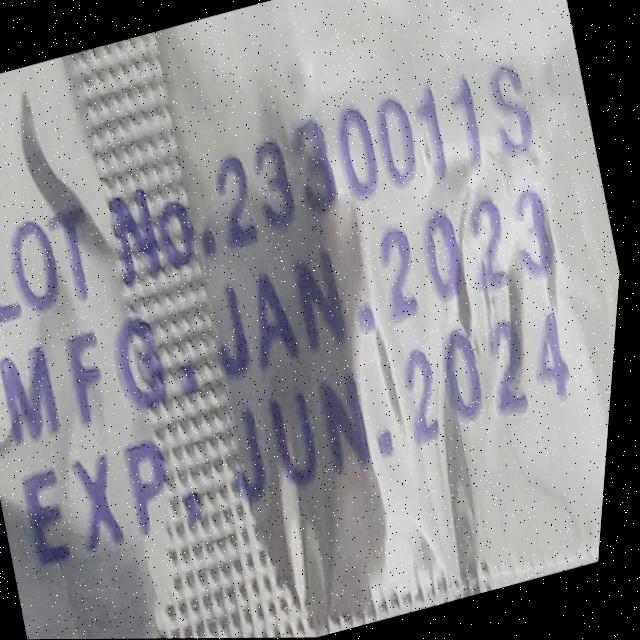sentence: (5, 161, 558, 445), (28, 295, 576, 562), (0, 63, 535, 324)
